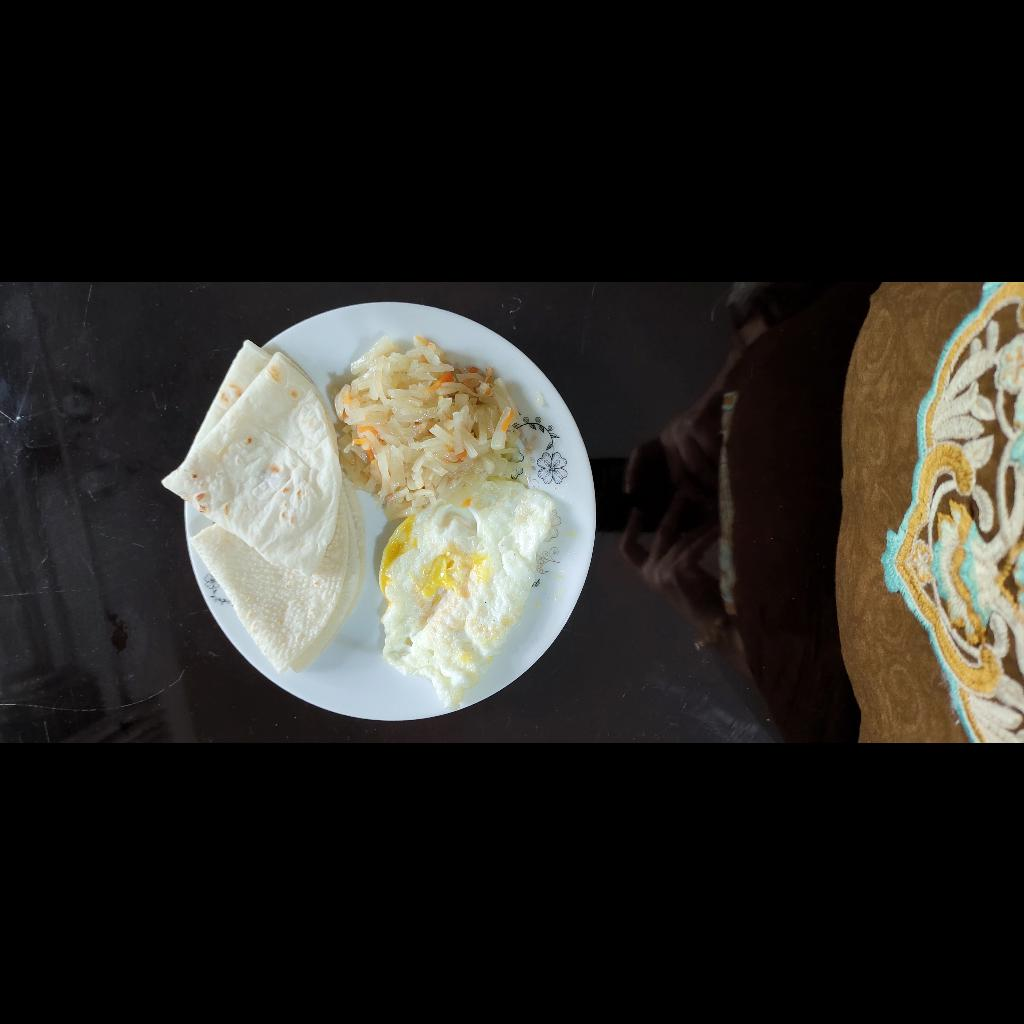egg-poached: (31, 658, 269, 836)
ruti: (70, 437, 402, 645)
vegetable: (223, 610, 414, 814)
